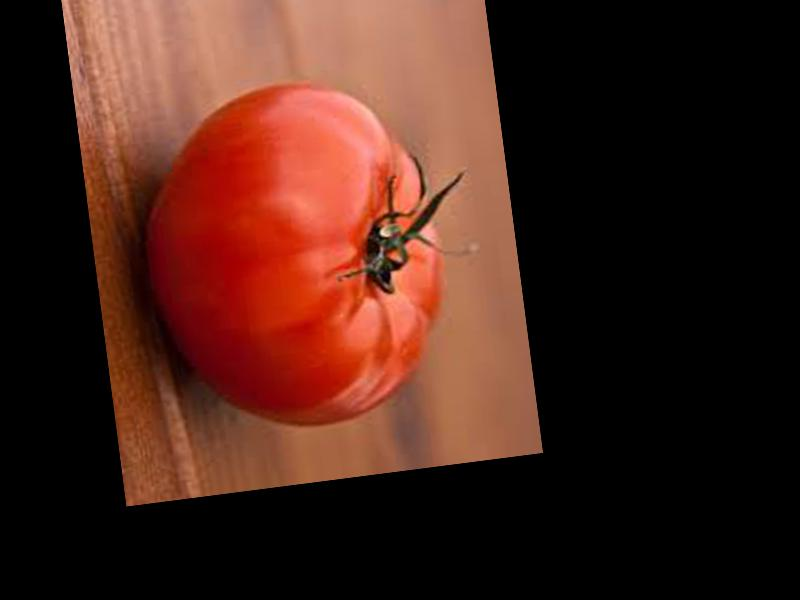Tomato: (127, 64, 460, 442)
